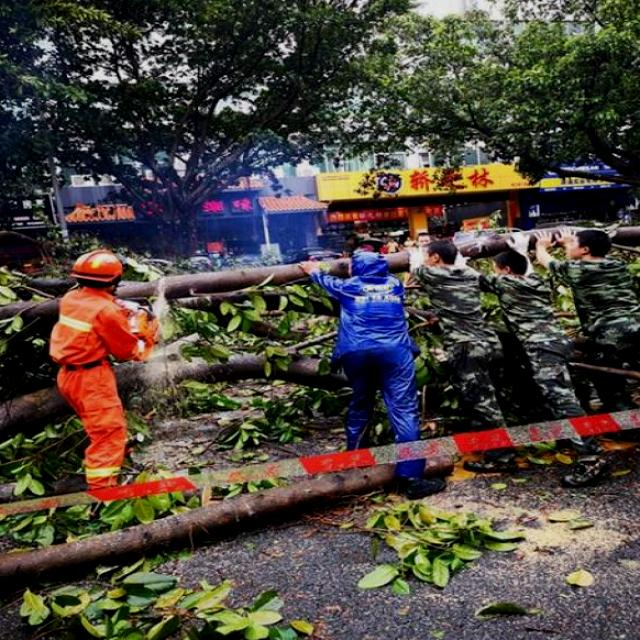fallen_object: (0, 444, 461, 606), (0, 320, 344, 448)
